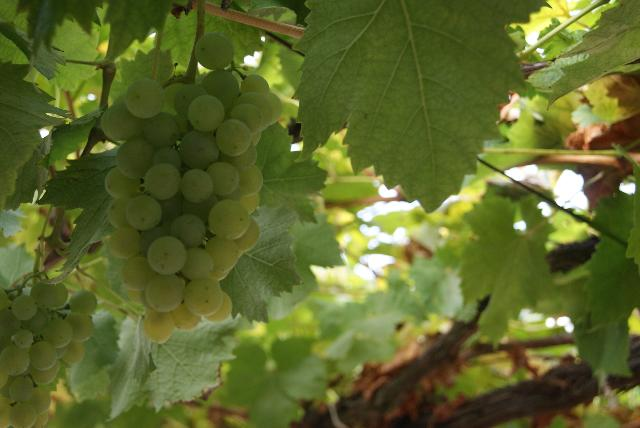grapes: (100, 34, 279, 344), (0, 279, 98, 428)
